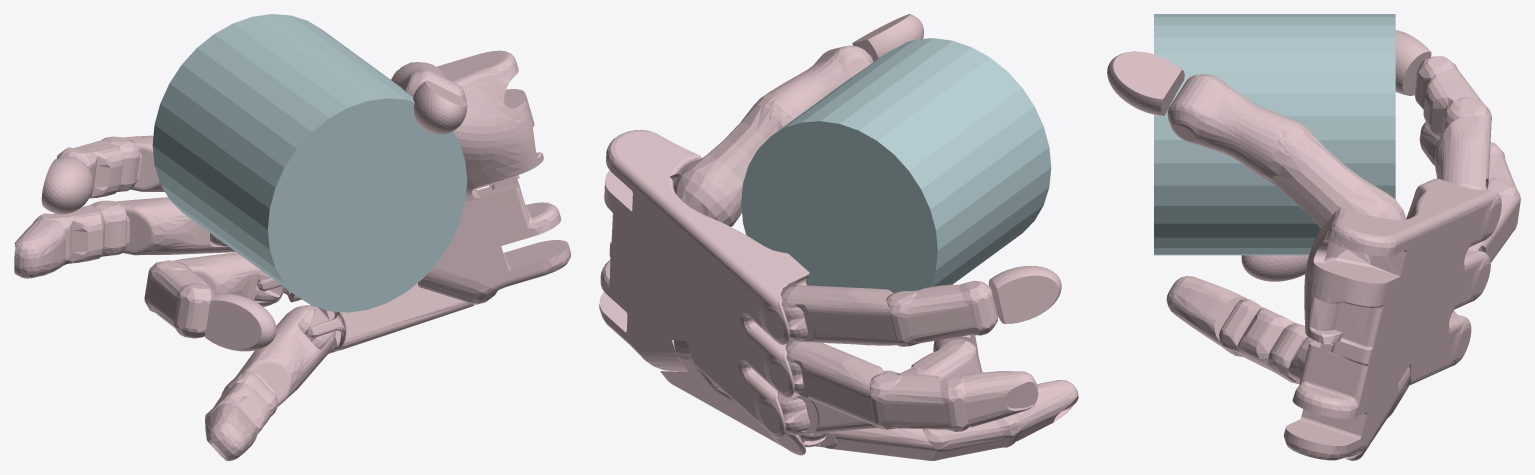
Rendered from grasp_3.glb.
The picture shows the model from 3 angles, left to right: view 1: azimuth 30°, elevation 25°; view 2: azimuth 150°, elevation 25°; view 3: azimuth 270°, elevation 25°; orthographic projection. The views are drawn at different scales.
Visible parts, largest first — view 1: world; view 2: world; view 3: world.
Part boxes in pixels (left/top/right/bottom): world: left=14, top=14, right=570, bottom=460; world: left=599, top=14, right=1078, bottom=460; world: left=1107, top=14, right=1520, bottom=460.
Size of the model in its own units: 0.199 by 0.1404 by 0.1371.
